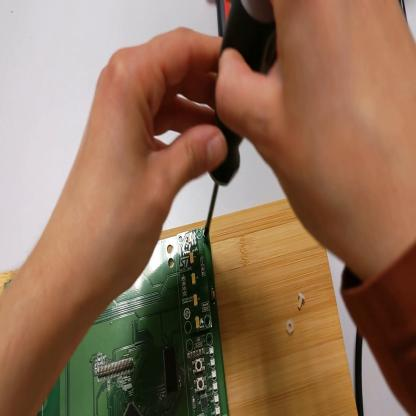hand: (220, 2, 416, 280), (53, 27, 227, 314)
low voltage board: (39, 221, 229, 416)
screwdriver-: (205, 2, 277, 238)
working area: (155, 182, 359, 413)
